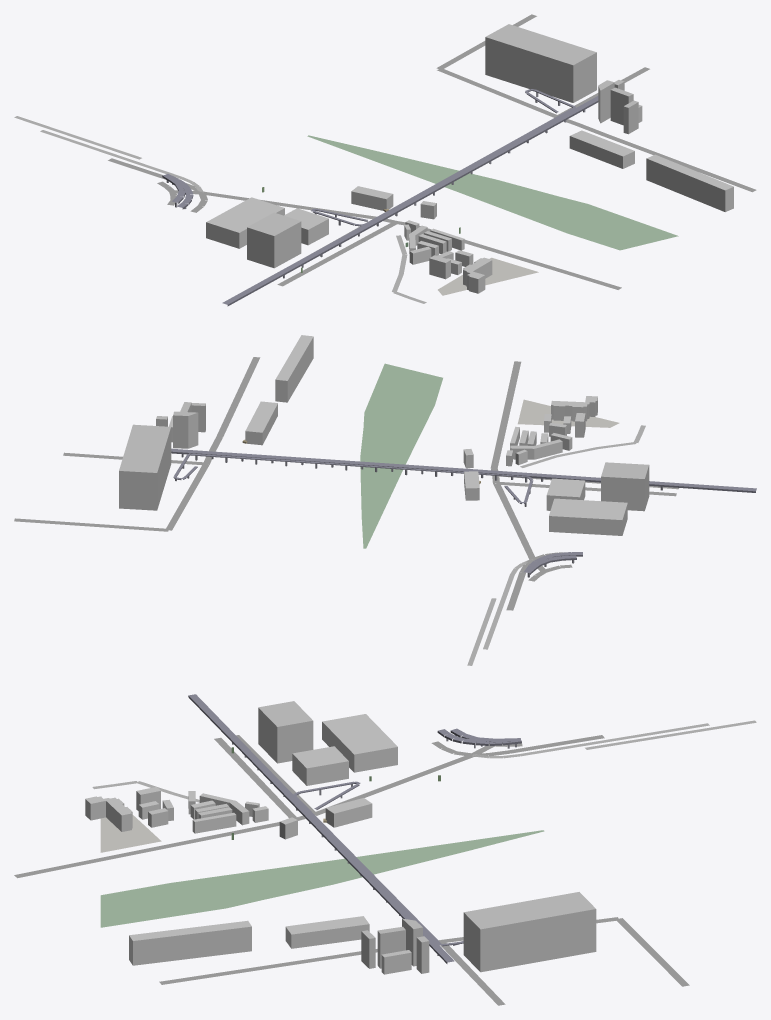
3 renders of one model, top to bottom at view 1: azimuth 30°, elevation 25°; view 2: azimuth 150°, elevation 25°; view 3: azimuth 270°, elevation 25°, orthographic. The views are drawn at different scales.
Bounding box in the file's own units: 640 × 46.52 × 647.
